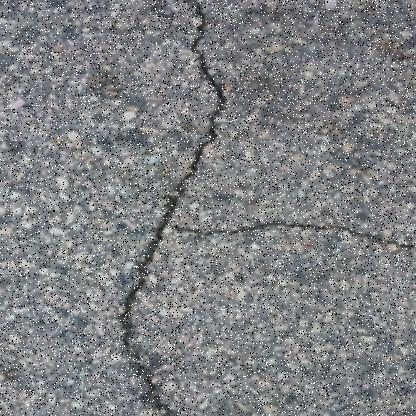Cracks: (108, 0, 237, 415), (155, 210, 416, 257)
